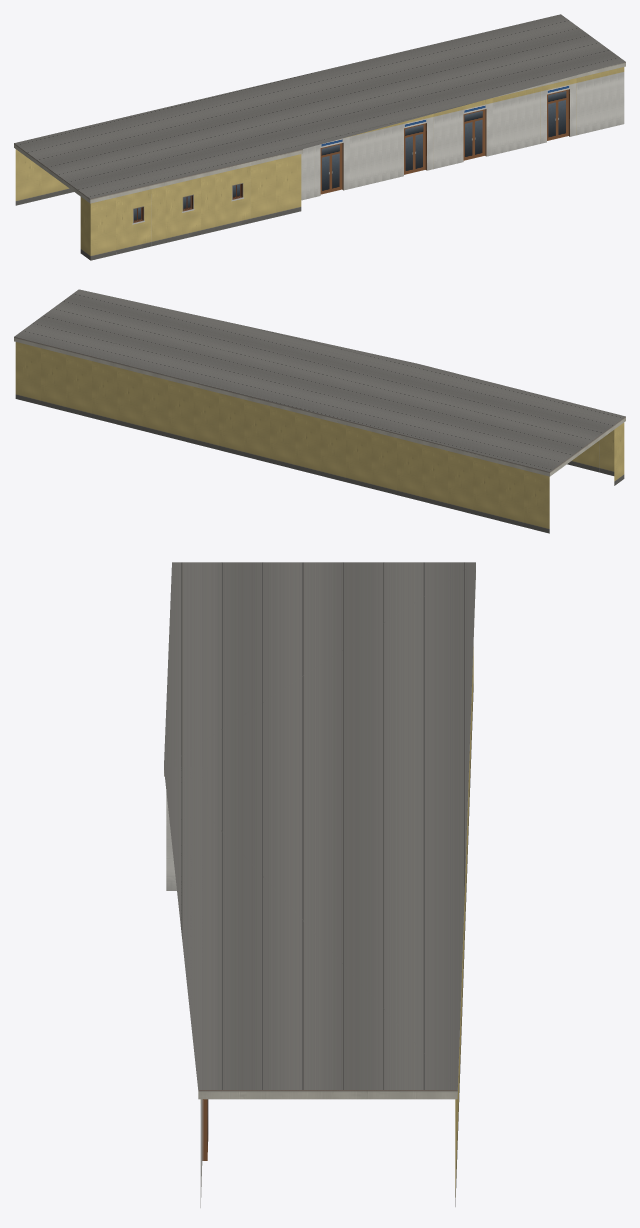
File: SM_Molo_Edificio_A3_LOD1.fbx
3 views of the same model, one above another, from view 1: azimuth 30°, elevation 25°; view 2: azimuth 150°, elevation 25°; view 3: azimuth 270°, elevation 25° (orthographic). The views are drawn at different scales.
Visible parts, largest first — view 1: SM_Molo_Edificio_A3_LOD1; view 2: SM_Molo_Edificio_A3_LOD1; view 3: SM_Molo_Edificio_A3_LOD1.
Part boxes in pixels (left/top/right/bottom): SM_Molo_Edificio_A3_LOD1: left=14, top=14, right=625, bottom=260; SM_Molo_Edificio_A3_LOD1: left=14, top=289, right=625, bottom=533; SM_Molo_Edificio_A3_LOD1: left=164, top=562, right=475, bottom=1207.
Bounding box in the file's own units: 3092 × 773 × 340.
1 material, 1 textured.
